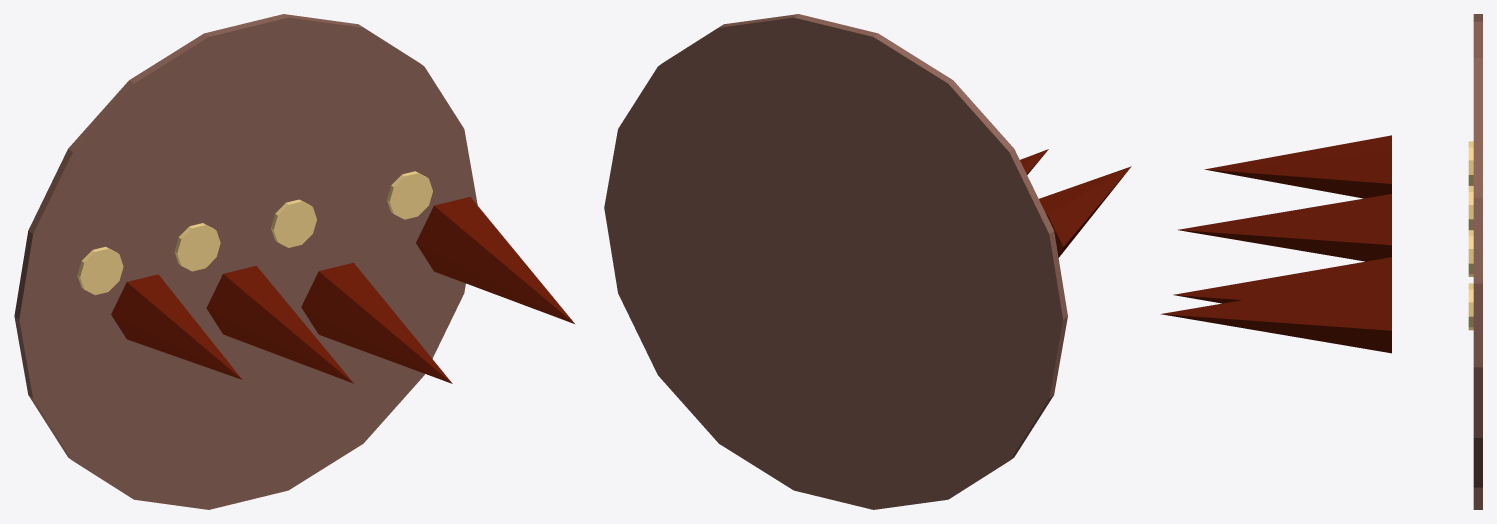
File: 02_local_prop_cluster.glb
The picture shows the model from 3 angles, left to right: view 1: azimuth 30°, elevation 25°; view 2: azimuth 150°, elevation 25°; view 3: azimuth 270°, elevation 25°; orthographic projection. The views are drawn at different scales.
Parts seen in each view (by area): view 1: scatter_base, basalt_shard_3, basalt_shard_2, basalt_shard_1, basalt_shard_0, lava_glow_1, lava_glow_2, lava_glow_0, lava_glow_3; view 2: scatter_base, basalt_shard_0; view 3: basalt_shard_3, basalt_shard_1, basalt_shard_0, scatter_base, basalt_shard_2.
Boxes of the visible parts, x1=… form: scatter_base: x1=14, y1=14, x2=477, y2=509; basalt_shard_3: x1=416, y1=197, x2=574, y2=323; basalt_shard_2: x1=301, y1=262, x2=452, y2=383; basalt_shard_1: x1=206, y1=265, x2=353, y2=383; basalt_shard_0: x1=111, y1=274, x2=242, y2=379; lava_glow_1: x1=174, y1=223, x2=220, y2=271; lava_glow_2: x1=271, y1=199, x2=316, y2=247; lava_glow_0: x1=77, y1=246, x2=123, y2=295; lava_glow_3: x1=387, y1=171, x2=432, y2=219; scatter_base: x1=604, y1=14, x2=1067, y2=509; basalt_shard_0: x1=1039, y1=166, x2=1131, y2=257; basalt_shard_3: x1=1160, y1=275, x2=1391, y2=353; basalt_shard_1: x1=1178, y1=194, x2=1391, y2=261; basalt_shard_0: x1=1204, y1=135, x2=1391, y2=198; scatter_base: x1=1473, y1=14, x2=1482, y2=509; basalt_shard_2: x1=1173, y1=257, x2=1391, y2=303.
Size of the model in its own units: 1.9 by 1.87 by 1.23.
